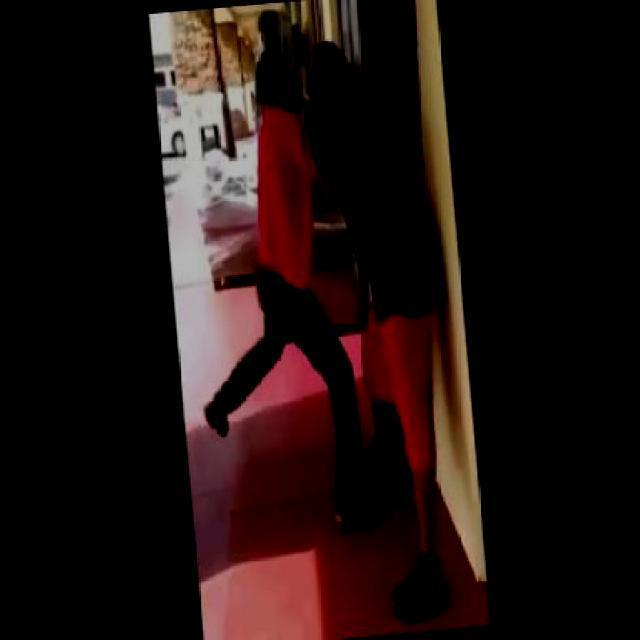fight: (227, 32, 455, 610)
